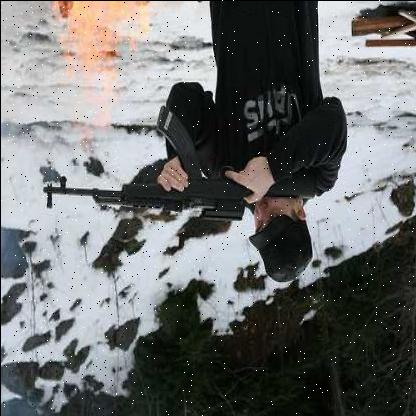rifle: (19, 92, 314, 247)
